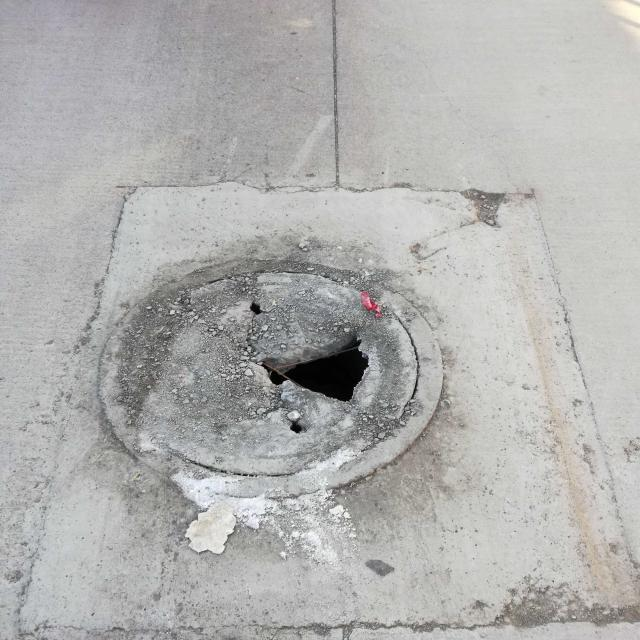Faulty: (96, 260, 444, 496)
